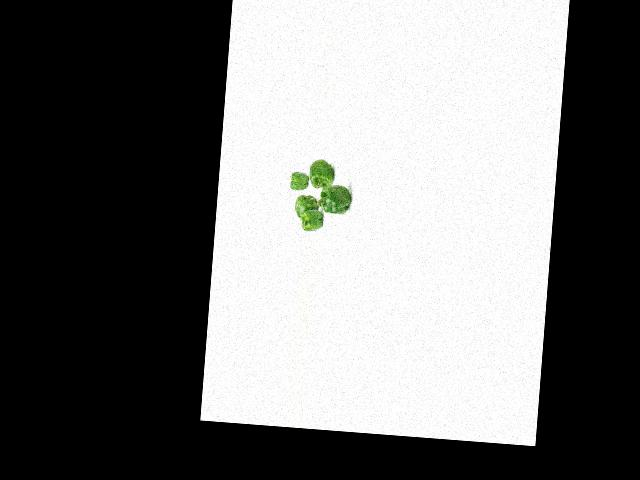bell_pepper: (300, 207, 326, 232)
